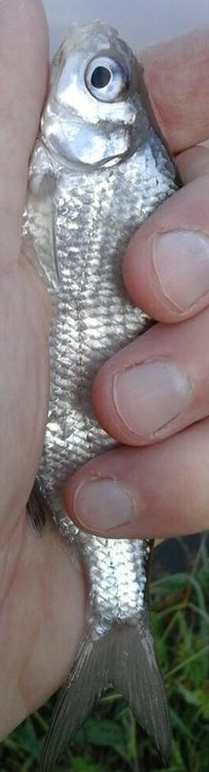Blicca bjoerkna: (20, 20, 189, 752)
